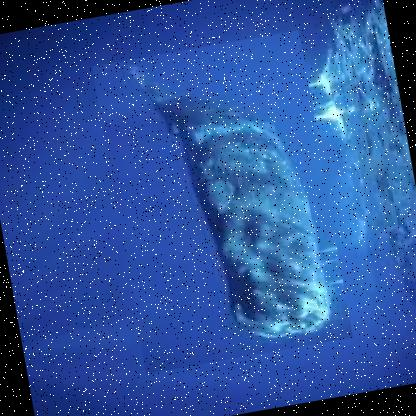sperm_whale: (89, 28, 352, 374)
